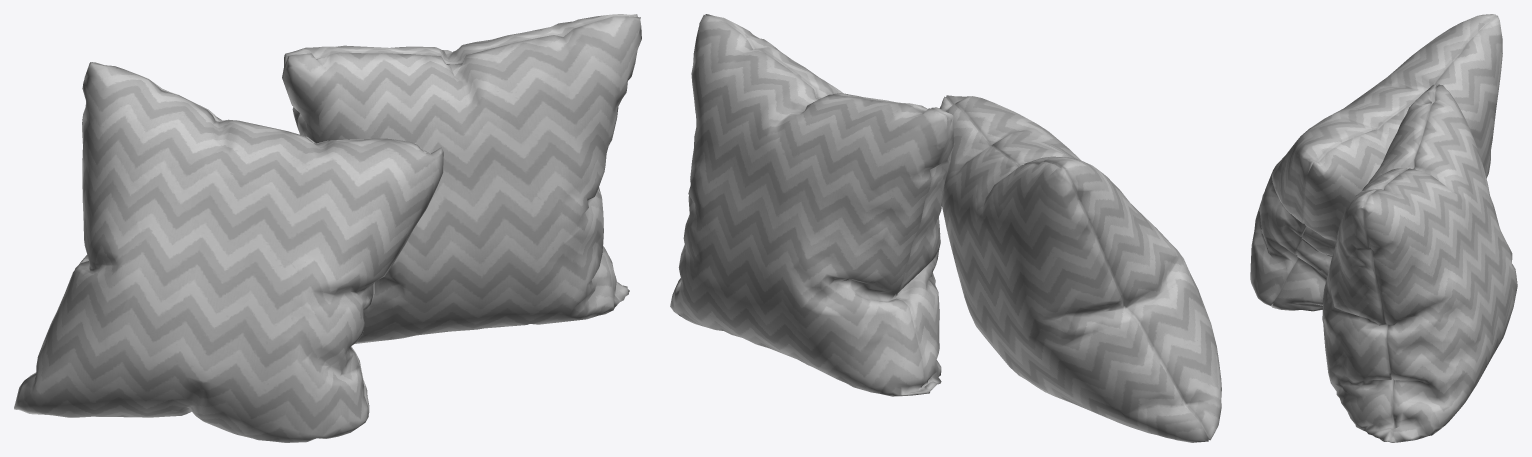
File: lf-pillows.glb
The picture shows the model from 3 angles, left to right: view 1: azimuth 30°, elevation 25°; view 2: azimuth 150°, elevation 25°; view 3: azimuth 270°, elevation 25°; orthographic projection. The views are drawn at different scales.
Parts seen in each view (by area): view 1: throw_pillows_01_pillow01, throw_pillows_01_pillow02; view 2: throw_pillows_01_pillow02, throw_pillows_01_pillow01; view 3: throw_pillows_01_pillow02, throw_pillows_01_pillow01.
Boxes of the visible parts, bbox=[...] form: throw_pillows_01_pillow01: bbox=[14, 62, 443, 442]; throw_pillows_01_pillow02: bbox=[282, 14, 641, 343]; throw_pillows_01_pillow02: bbox=[670, 14, 953, 396]; throw_pillows_01_pillow01: bbox=[939, 95, 1221, 442]; throw_pillows_01_pillow02: bbox=[1322, 84, 1517, 442]; throw_pillows_01_pillow01: bbox=[1250, 14, 1502, 311].
Bounding box in the file's own units: 0.9401 × 0.4502 × 0.4519.
Materials: 1 (1 with a texture image).
